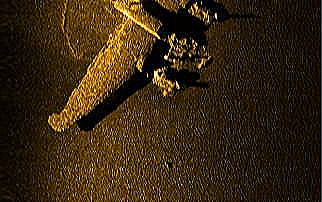aircraft: (44, 1, 219, 133)
